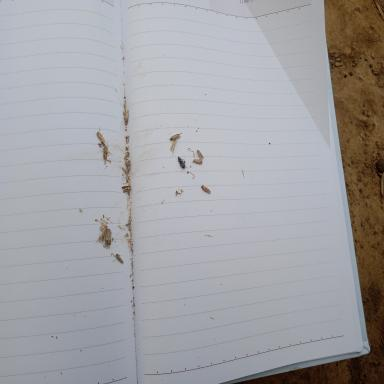pbw: (95, 225, 108, 244), (102, 229, 112, 249), (111, 252, 124, 264), (96, 126, 105, 143), (103, 146, 113, 161), (200, 184, 211, 194), (170, 139, 176, 157), (166, 134, 181, 140), (122, 186, 132, 193), (197, 150, 204, 160), (191, 159, 203, 164), (124, 110, 128, 122), (126, 160, 130, 168)
